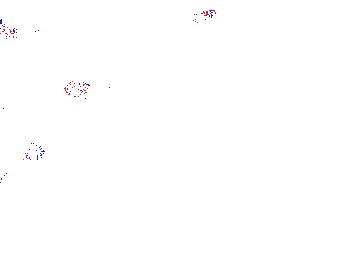X-ray fish: (2, 138, 49, 164)
red belly glassfish: (64, 68, 114, 97), (172, 7, 217, 30), (1, 25, 29, 40)
